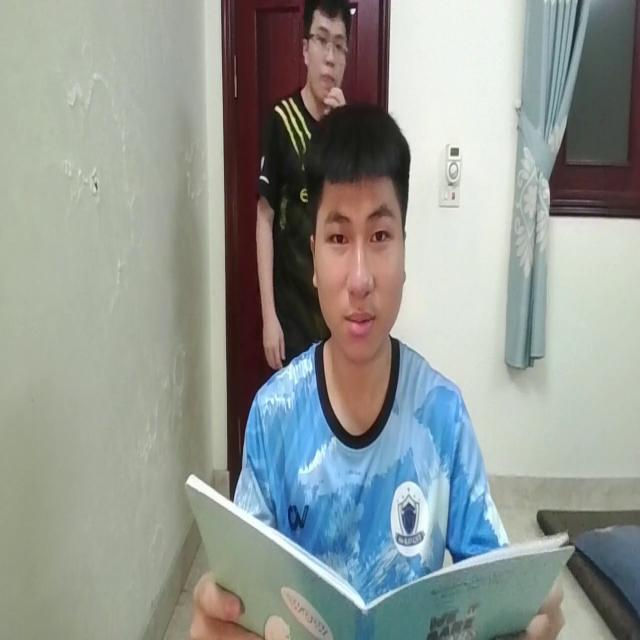book: (188, 462, 574, 640)
extra_person: (250, 1, 351, 370)
student: (233, 98, 504, 549)
